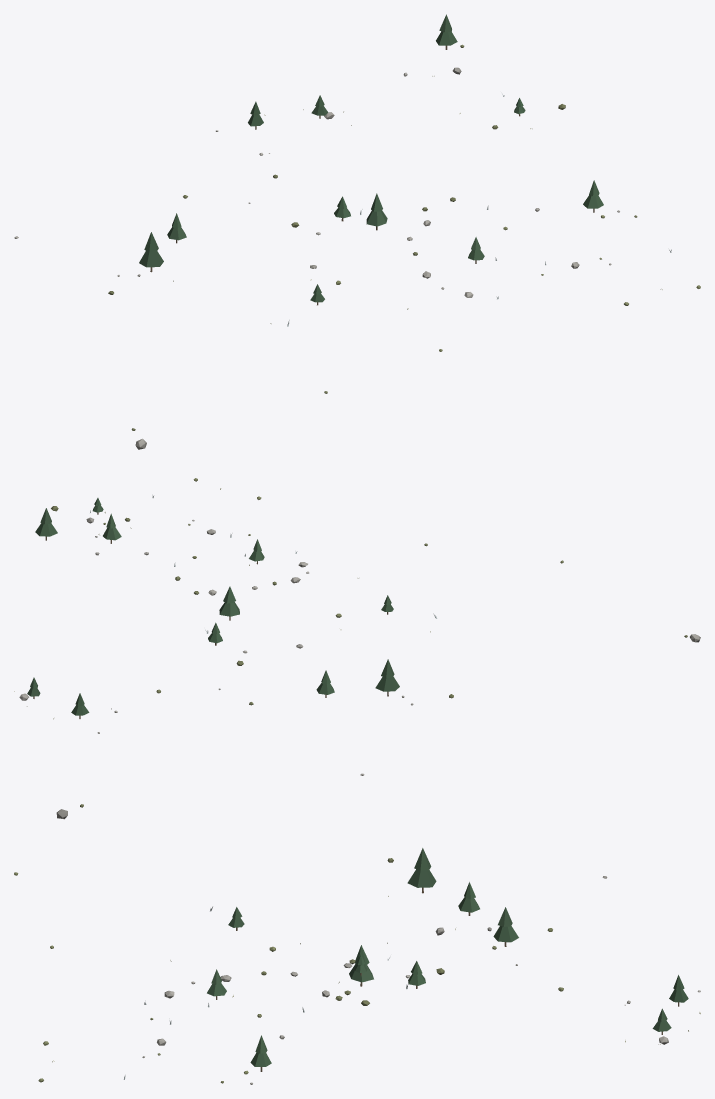
Rendered from coast_land_scatter_c09_18_lod1.glb.
The picture shows the model from 3 angles, top to bottom: view 1: azimuth 30°, elevation 25°; view 2: azimuth 150°, elevation 25°; view 3: azimuth 270°, elevation 25°; orthographic projection. The views are drawn at different scales.
Parts seen in each view (by area): view 1: coast_land_scatter_c09_18_lod1; view 2: coast_land_scatter_c09_18_lod1; view 3: coast_land_scatter_c09_18_lod1.
Part boxes in pixels (x1=…): coast_land_scatter_c09_18_lod1: x1=14, y1=14, x2=700, y2=449; coast_land_scatter_c09_18_lod1: x1=14, y1=478, x2=700, y2=775; coast_land_scatter_c09_18_lod1: x1=14, y1=804, x2=700, y2=1084.
Size of the model in its own units: 239 by 66.52 by 221.
